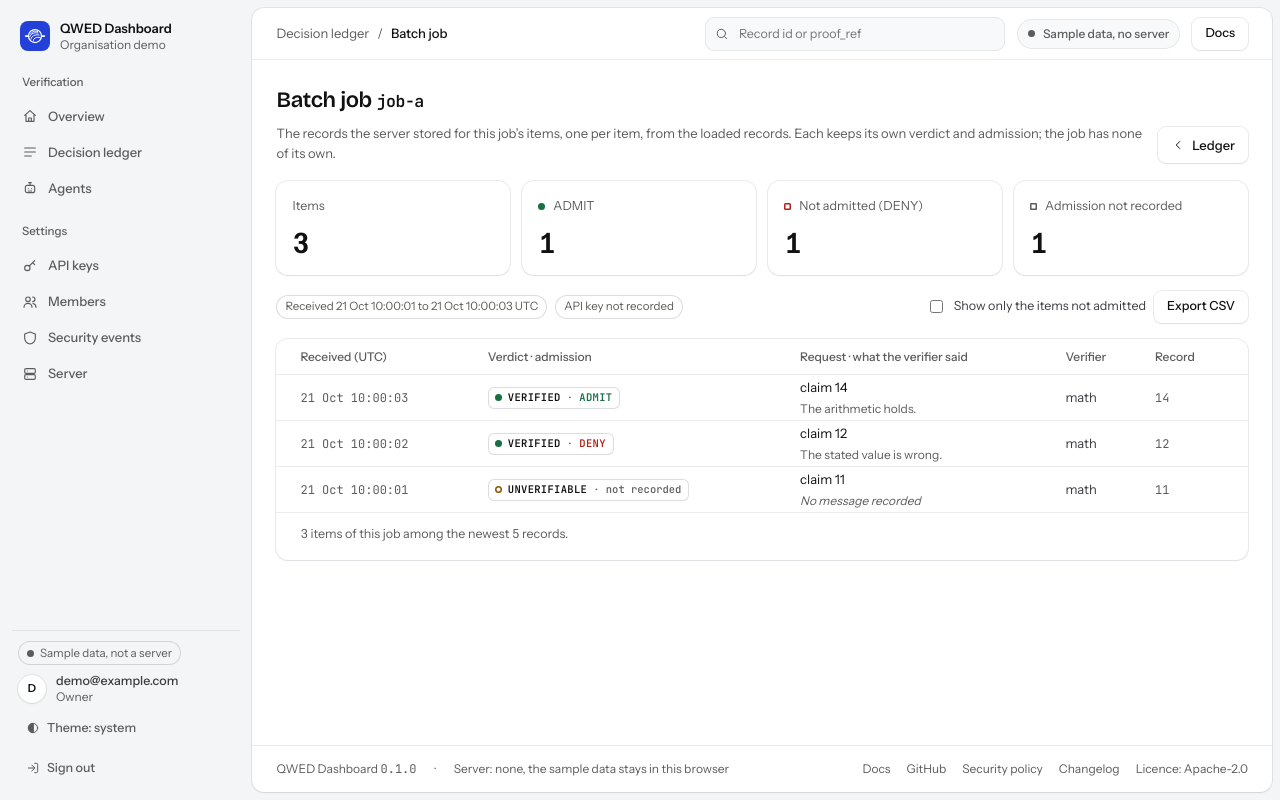
Test case: BatchPage › shows only the items not admitted when asked, and keeps that in the address
Expected: the link "claim 14" is shown, [800,379,847,395]
Click the checkbox labelled "Show only the items not admitted". click: (936, 307)
box: [930,300,943,313]
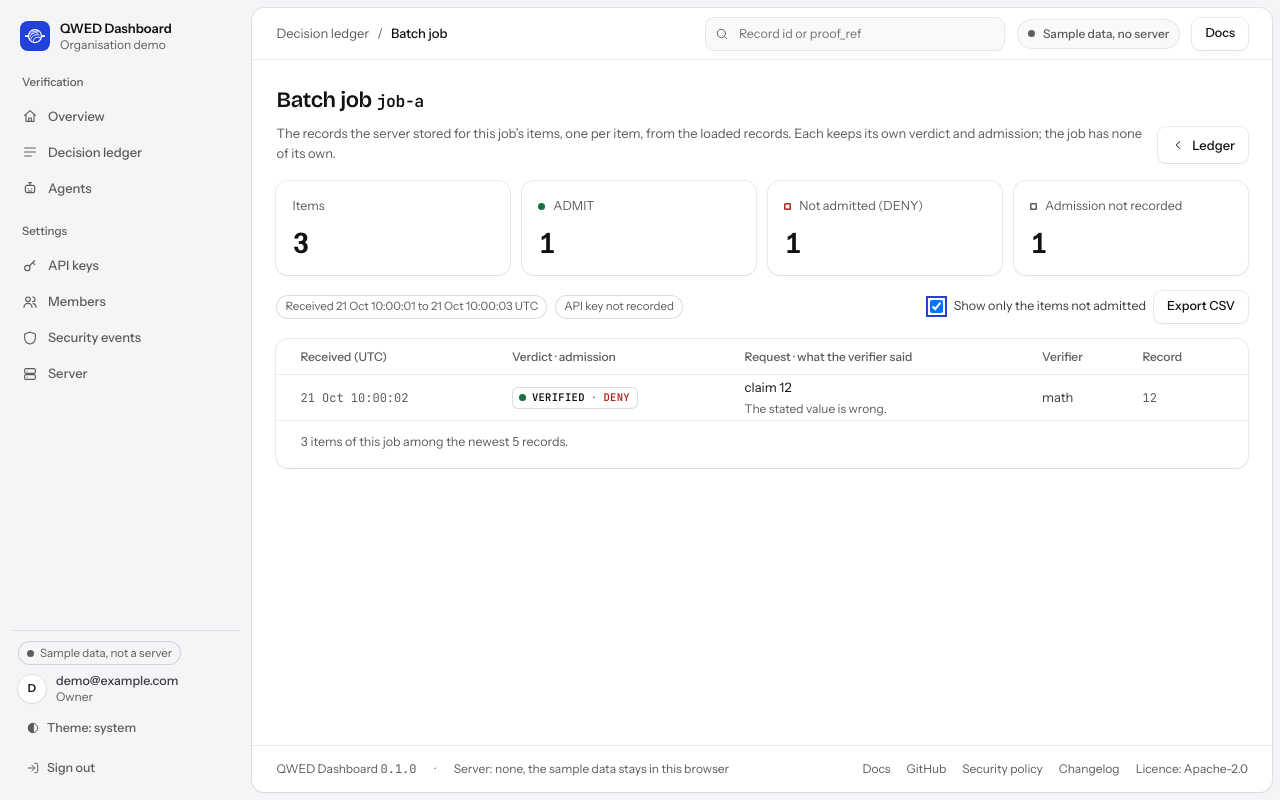
Expected: the link "claim 12" is shown, [745,379,792,395]
Expected: the link "claim 14" is gone
Expected: the link "claim 11" is gone
Click the checkbox labelled "Show only the items not admitted". click: (936, 307)
box: [930,300,943,313]
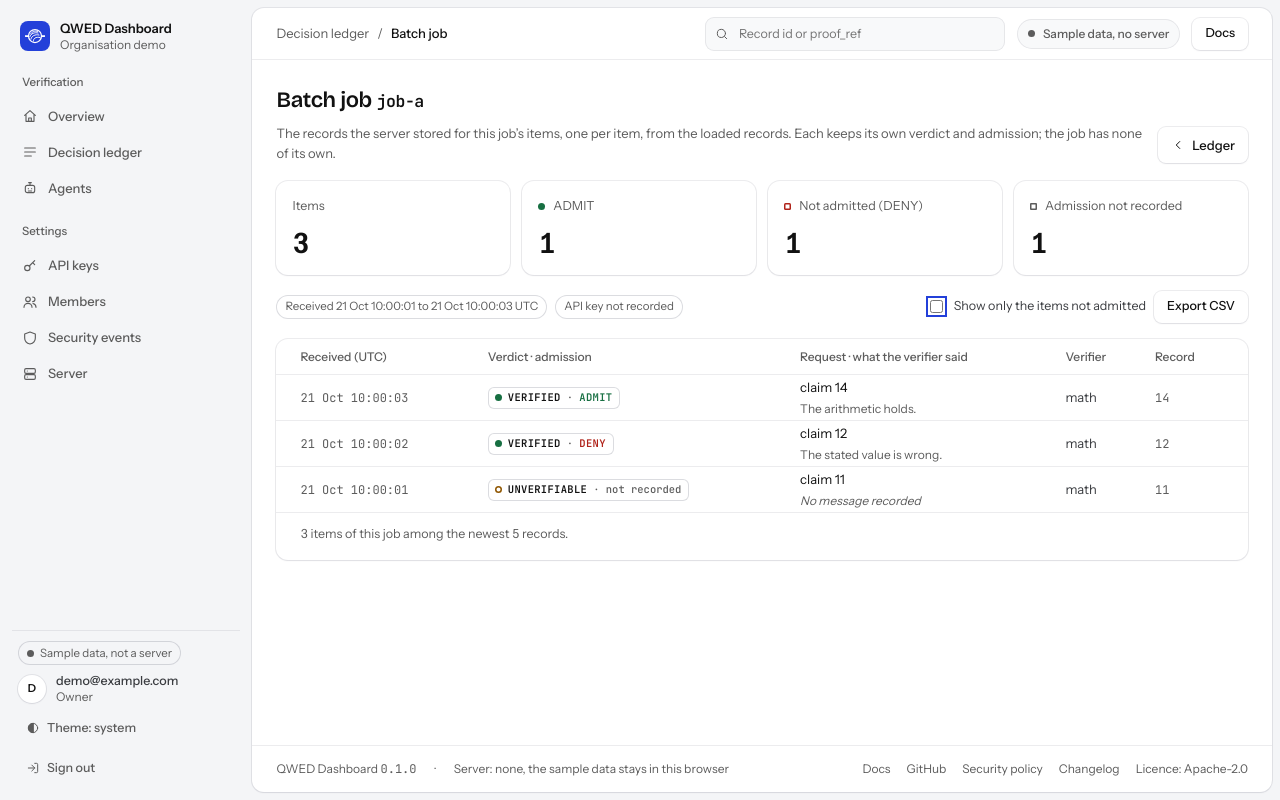
Expected: the link "claim 14" is shown, [800,379,847,395]
